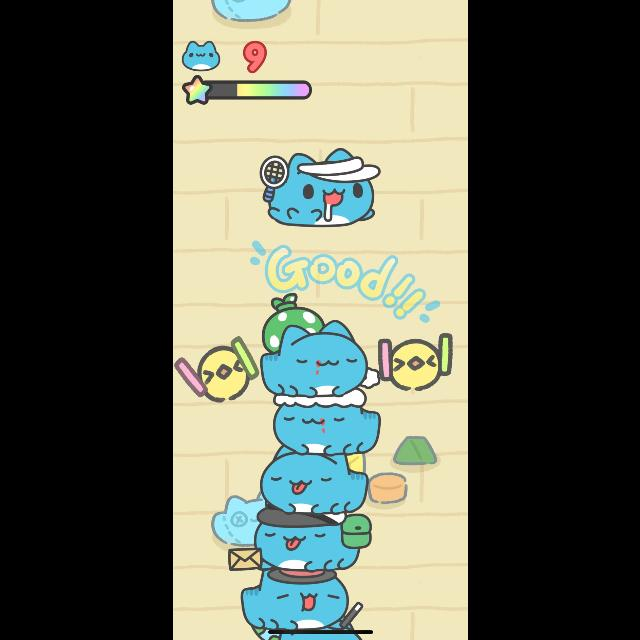capoo: (256, 296, 370, 392), (257, 150, 377, 228), (224, 512, 370, 574), (237, 574, 366, 632), (252, 455, 372, 515), (272, 393, 382, 455)
